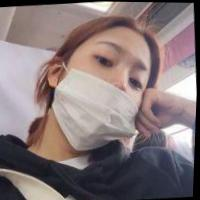WRONG: (48, 40, 157, 147)
